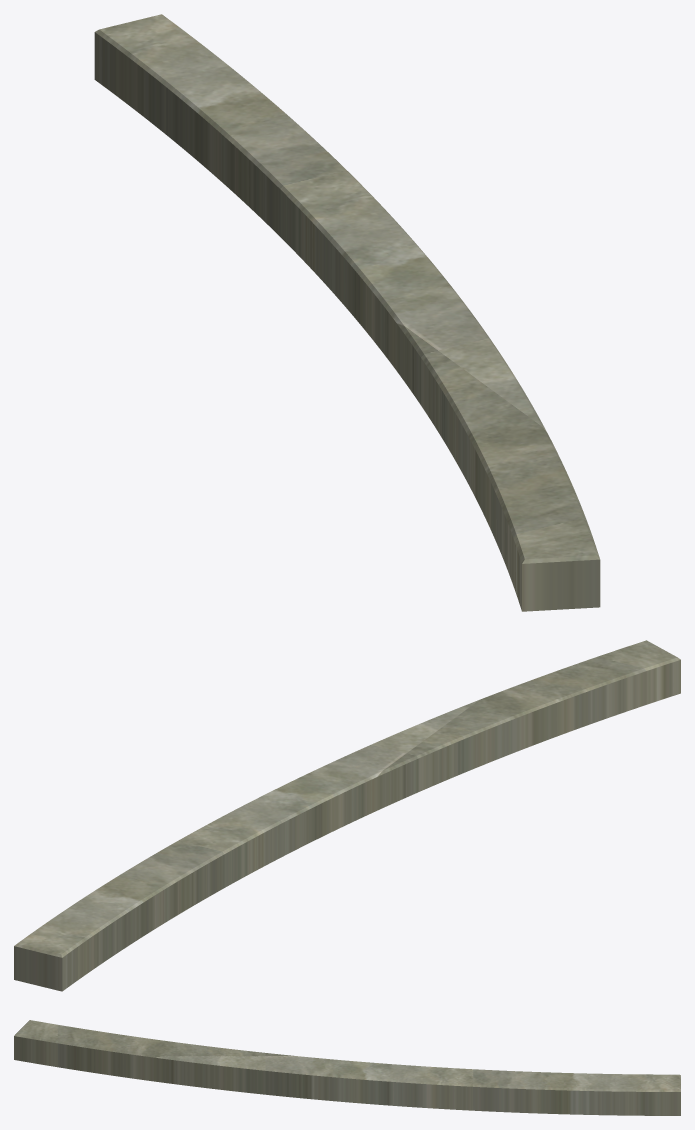
The model's file is f03-t-stone-pool-trim-3m-showcase.glb.
The picture shows the model from 3 angles, top to bottom: view 1: azimuth 30°, elevation 25°; view 2: azimuth 150°, elevation 25°; view 3: azimuth 270°, elevation 25°; orthographic projection. The views are drawn at different scales.
Visible parts, largest first — view 1: f03-t-stone-pool-trim-3m-showcase; view 2: f03-t-stone-pool-trim-3m-showcase; view 3: f03-t-stone-pool-trim-3m-showcase.
Part boxes in pixels (<box>): f03-t-stone-pool-trim-3m-showcase: <box>94,14,600,611</box>; f03-t-stone-pool-trim-3m-showcase: <box>14,640,680,991</box>; f03-t-stone-pool-trim-3m-showcase: <box>14,1020,680,1115</box>.
Bounding box in the file's own units: 0.8142 × 0.135 × 3.21.
Materials: 1 (1 with a texture image).
